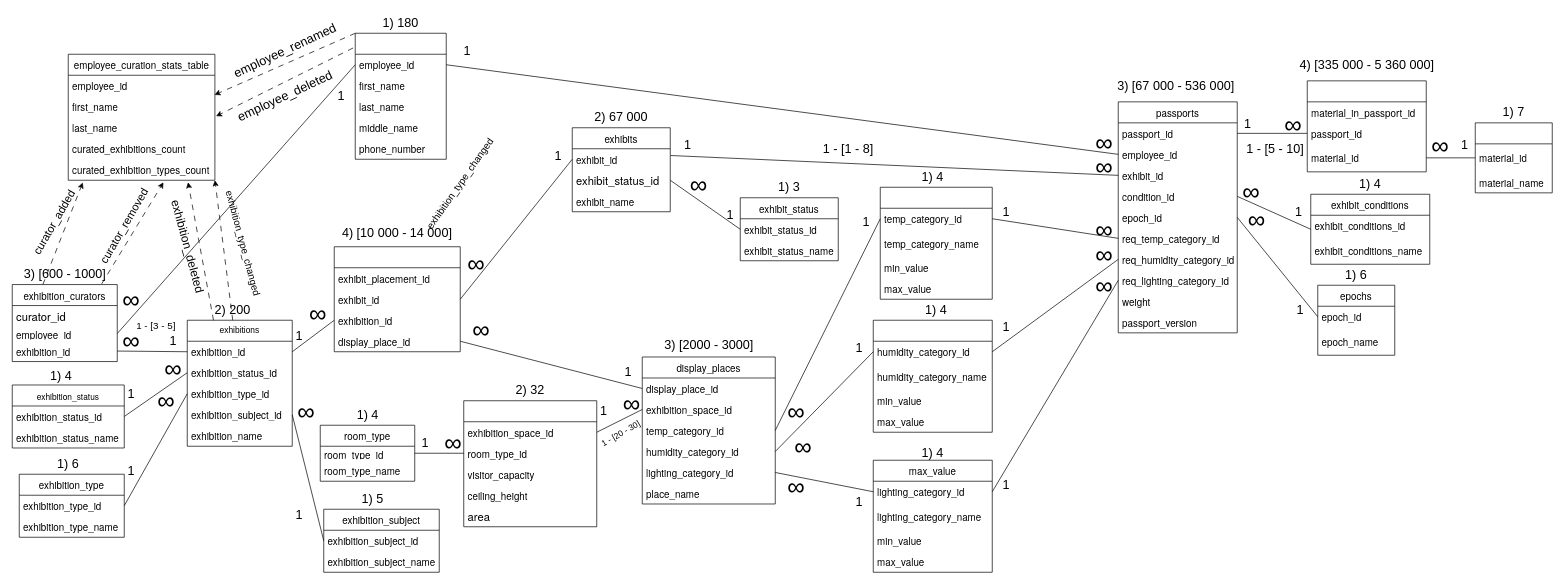
Some shapes in this 1565 by 585 pixel diagram are drawn without their labels. Each missing label, with the box of its shape:
employees: (355, 33, 446, 159)
exhibit_materials: (1307, 80, 1426, 172)
exhibit_placements: (334, 246, 460, 352)
exhibition_spaces: (463, 400, 597, 527)
humidity_categories: (873, 320, 992, 432)
materials: (1475, 122, 1552, 193)
temp_categories: (880, 187, 992, 299)
